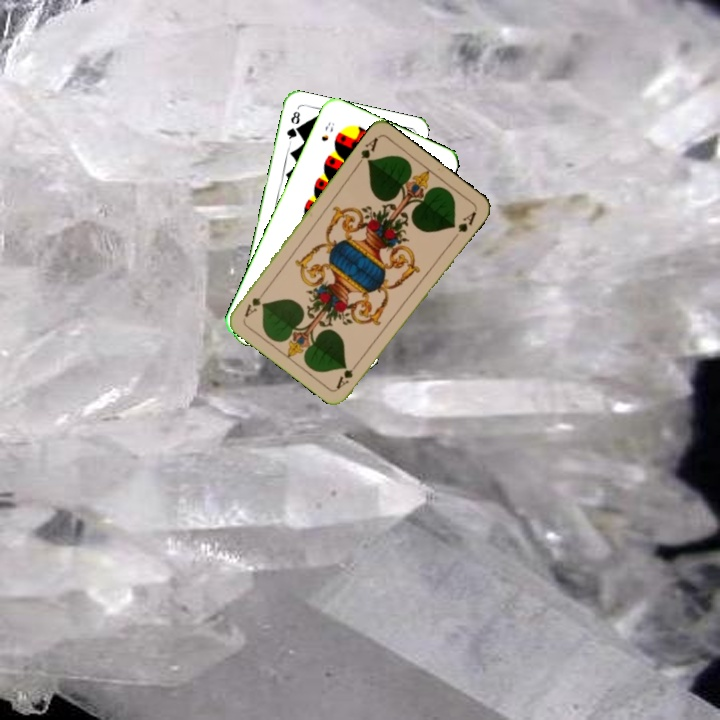G8: (282, 107, 303, 145)
GA: (332, 356, 363, 392), (352, 133, 381, 169)
S8: (317, 118, 337, 144)
